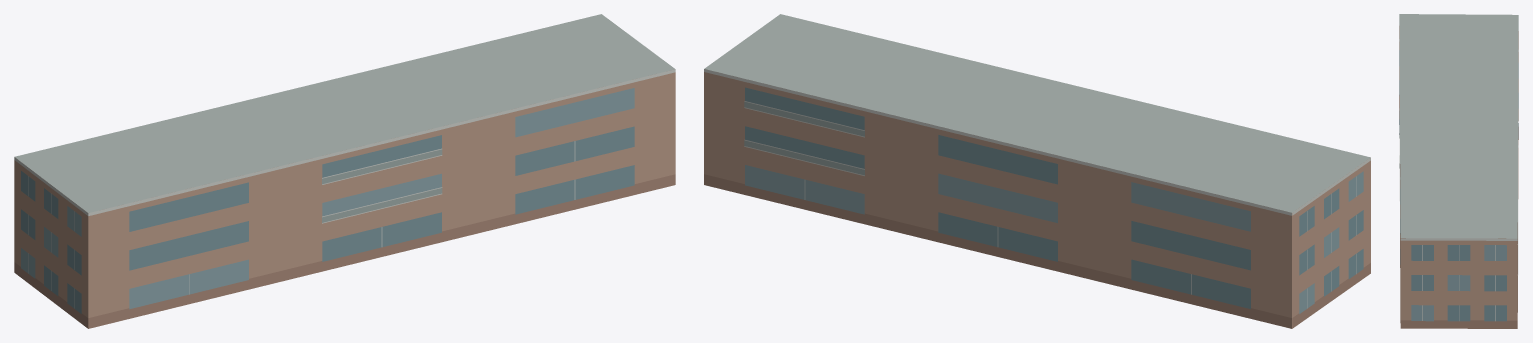
File: survey-upis-32520875.glb
The picture shows the model from 3 angles, left to right: view 1: azimuth 30°, elevation 25°; view 2: azimuth 150°, elevation 25°; view 3: azimuth 270°, elevation 25°; orthographic projection. The views are drawn at different scales.
Parts seen in each view (by area): view 1: survey-upis-32520875.tmp; view 2: survey-upis-32520875.tmp; view 3: survey-upis-32520875.tmp.
Part boxes in pixels (x1,y1,x2,y2): survey-upis-32520875.tmp: [14, 14, 675, 328]; survey-upis-32520875.tmp: [704, 14, 1370, 328]; survey-upis-32520875.tmp: [1399, 14, 1518, 328].
Bounding box in the file's own units: 48.73 × 9.15 × 10.93.
